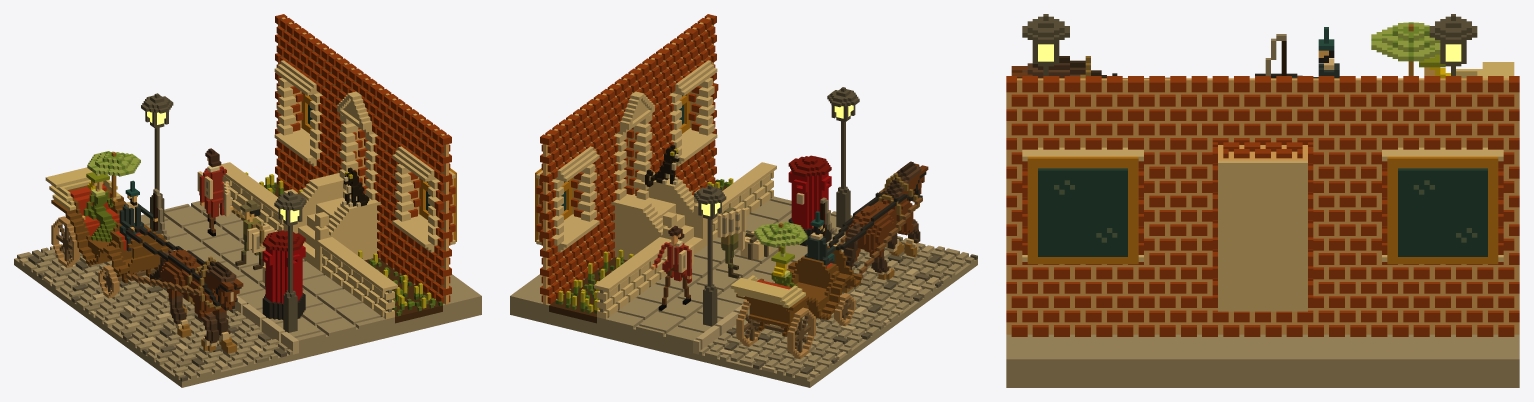
File: street.glb
The picture shows the model from 3 angles, left to right: view 1: azimuth 30°, elevation 25°; view 2: azimuth 150°, elevation 25°; view 3: azimuth 270°, elevation 25°; orthographic projection. The views are drawn at different scales.
Visible parts, largest first — view 1: Object_2; view 2: Object_2; view 3: Object_2.
Part boxes in pixels (x1,y1,x2,y2): Object_2: (14, 14, 481, 387); Object_2: (510, 14, 977, 387); Object_2: (1006, 14, 1519, 387).
Bounding box in the file's own units: 3.86 × 2.28 × 3.75.
1 material, 1 textured.
